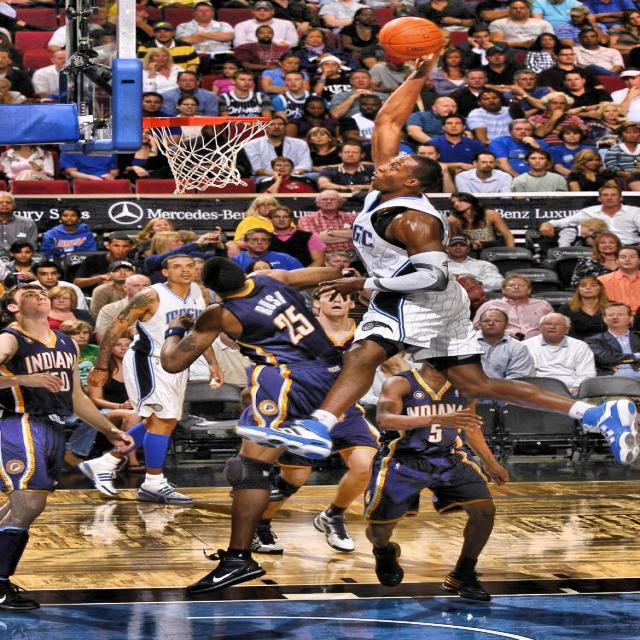board: (382, 16, 444, 60)
rim: (151, 115, 278, 193)
